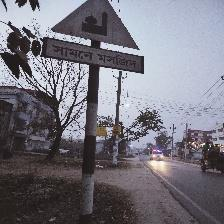Mosque in front: (48, 0, 143, 74)
